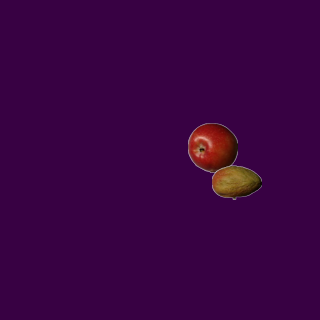Apple Braeburn: (187, 122, 237, 172)
Papaya: (211, 157, 261, 207)
